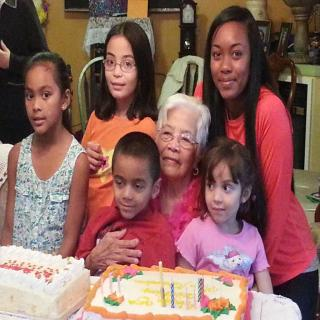Cake: (80, 262, 252, 320), (0, 244, 91, 320)
